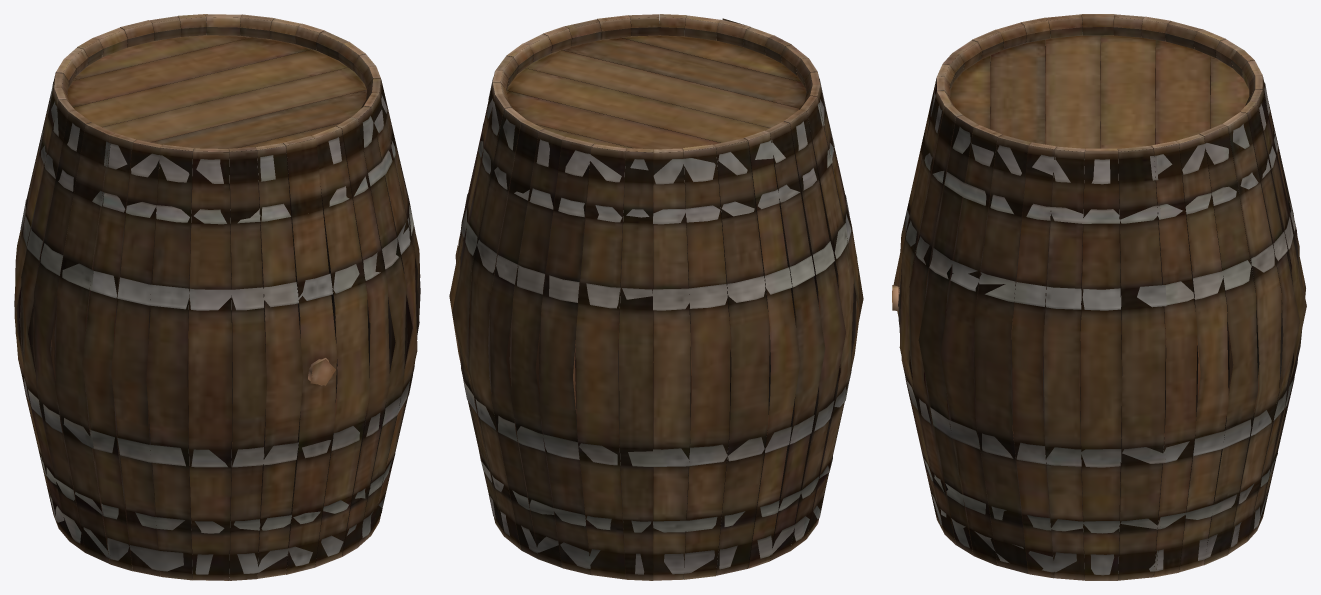
Rendered from isl_barrel.glb.
3 renders of one model, left to right at view 1: azimuth 30°, elevation 25°; view 2: azimuth 150°, elevation 25°; view 3: azimuth 270°, elevation 25°, orthographic.
Parts seen in each view (by area): view 1: wine_barrel_01_Lid; view 2: wine_barrel_01_Lid; view 3: wine_barrel_01_Lid.
Part boxes in pixels (x1,y1,x2,y2): wine_barrel_01_Lid: (14, 14, 420, 580); wine_barrel_01_Lid: (449, 14, 863, 580); wine_barrel_01_Lid: (892, 14, 1306, 580).
Size of the model in its own units: 0.761 by 0.8718 by 0.7621.
Materials: 1 (1 with a texture image).
